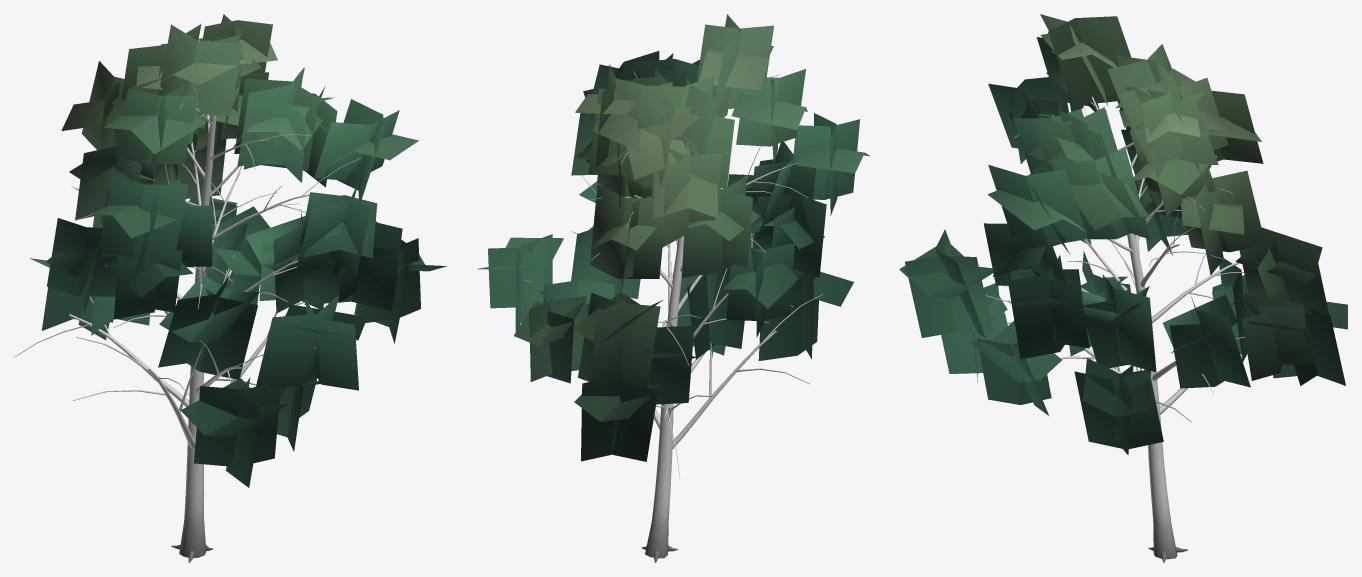
The model's file is birch_b.glb.
The picture shows the model from 3 angles, left to right: view 1: azimuth 30°, elevation 25°; view 2: azimuth 150°, elevation 25°; view 3: azimuth 270°, elevation 25°; orthographic projection. The views are drawn at different scales.
Visible parts, largest first — view 1: isl_birch_b; view 2: isl_birch_b; view 3: isl_birch_b.
Part boxes in pixels (x1,y1,x2,y2): isl_birch_b: (14,14,447,562); isl_birch_b: (477,14,870,562); isl_birch_b: (899,14,1347,562).
Size of the model in its own units: 5.92 by 8.43 by 6.63.
